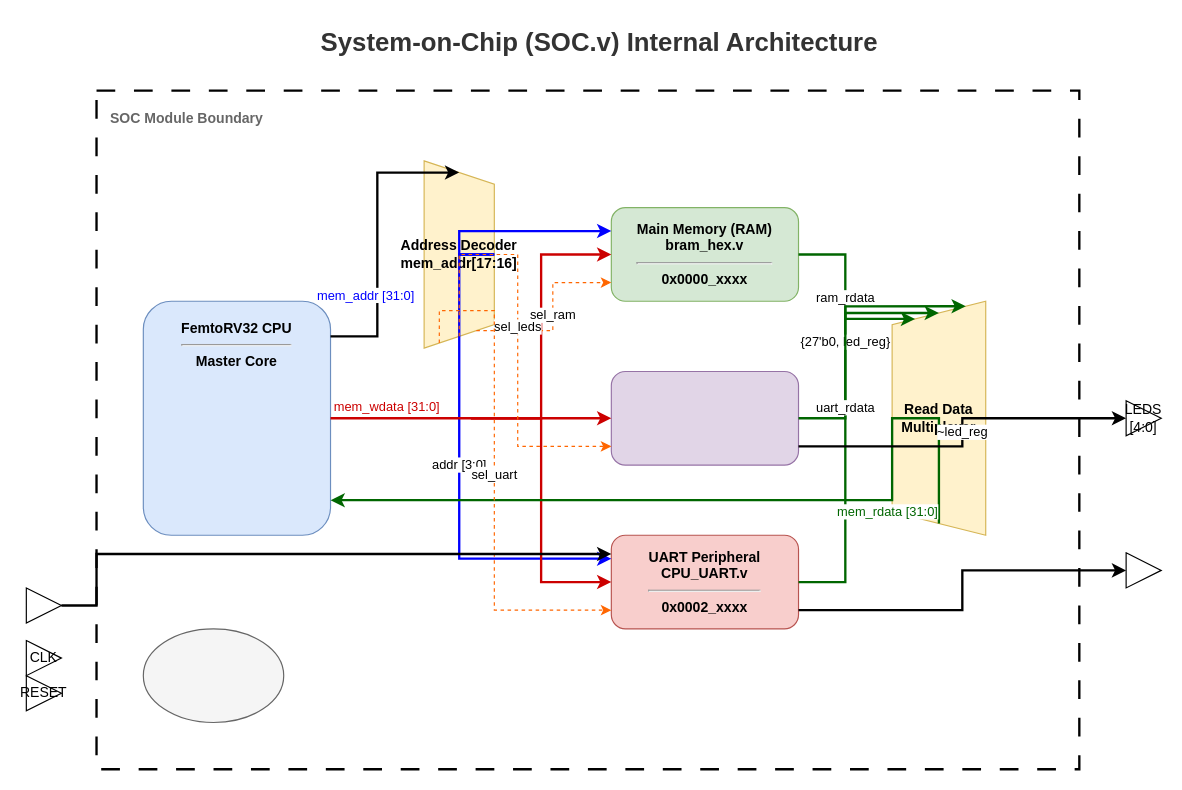
This 1182x790 diagram has some shape labels left out. The shapes that lost their labels are listed below. From the top down, each one's box as (x1, y1, x2, y2) in pixels, then its label:
(610, 370, 799, 465): LED Register led_reg [4:0] 0x0001_xxxx
(1125, 552, 1161, 588): TXD
(25, 587, 61, 623): RXD
(142, 628, 284, 722): Clockworks (Clock/Reset Gen)
